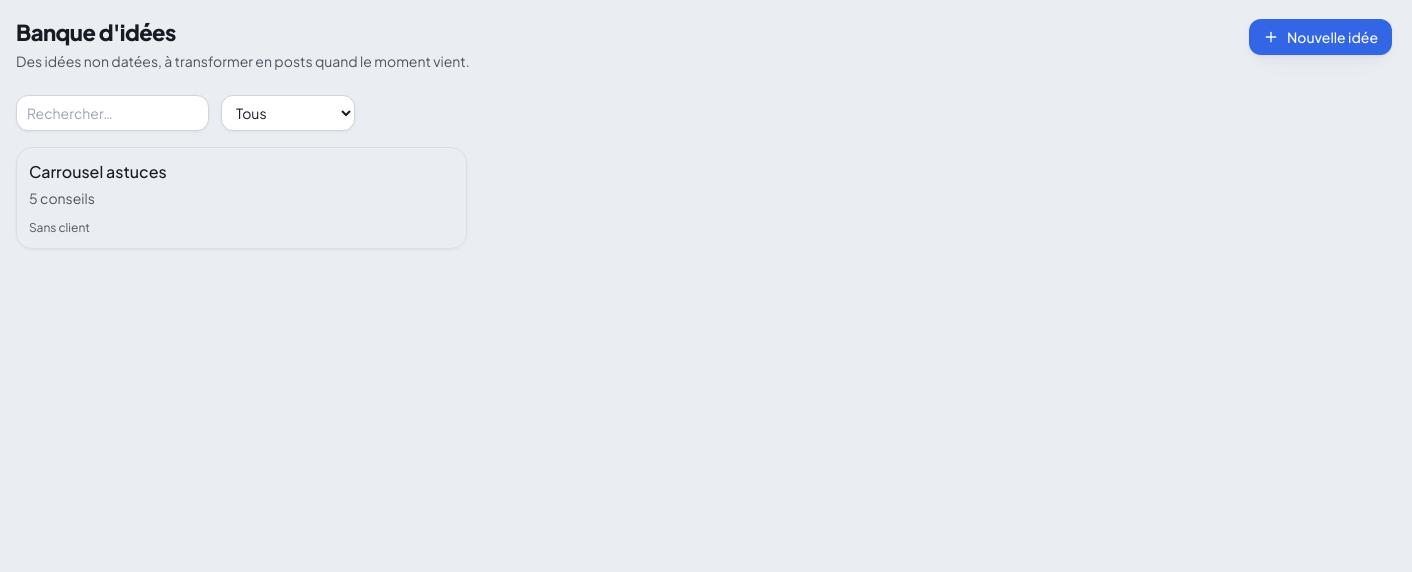
IdeasPage › liste les idées et ouvre le formulaire de création
Expected: the text "Carrousel astuces" is shown, [29,160,167,184]
Click the button "Nouvelle idée" at (1320, 37), box [1249,19,1392,55]
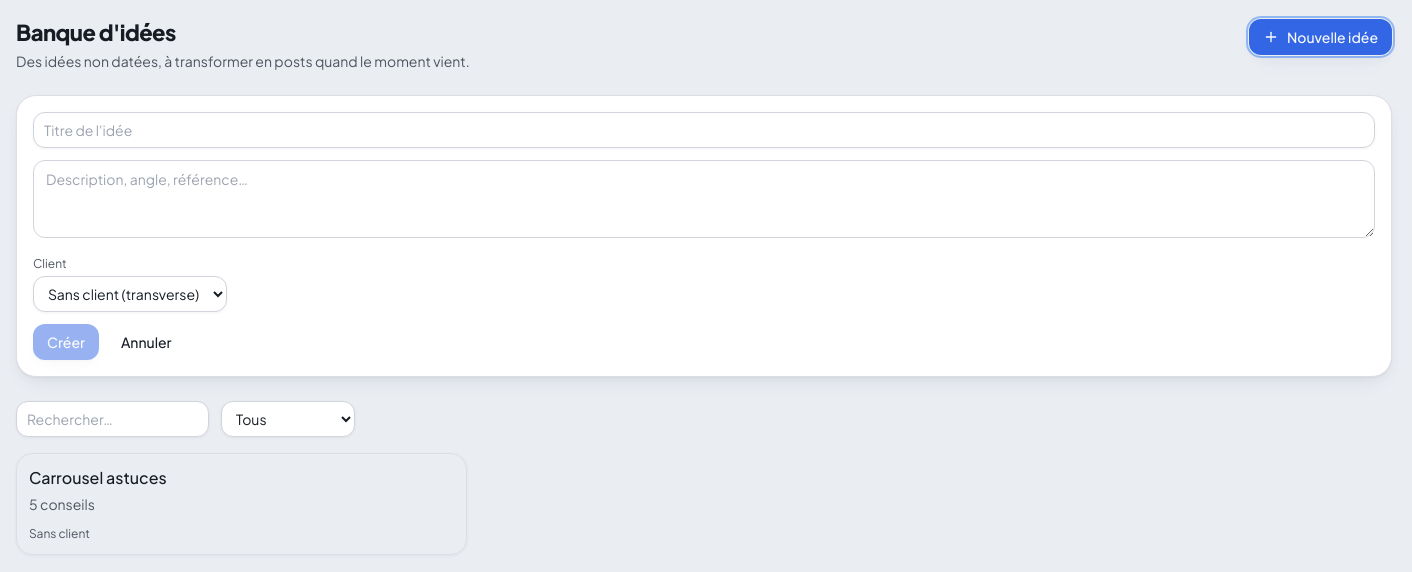
Now the field labelled "Titre" is shown, box [33,112,1375,148]
